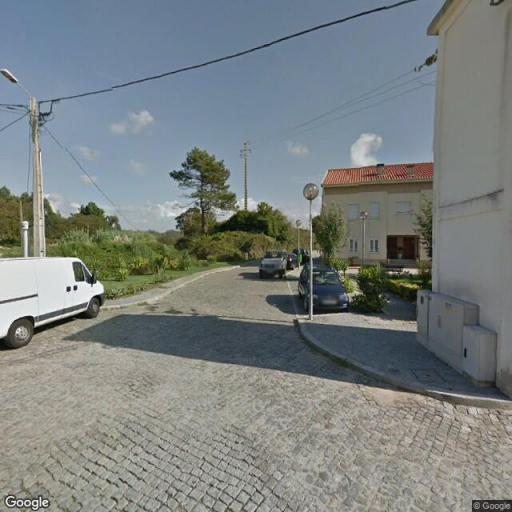mono_7: (239, 140, 254, 210)
